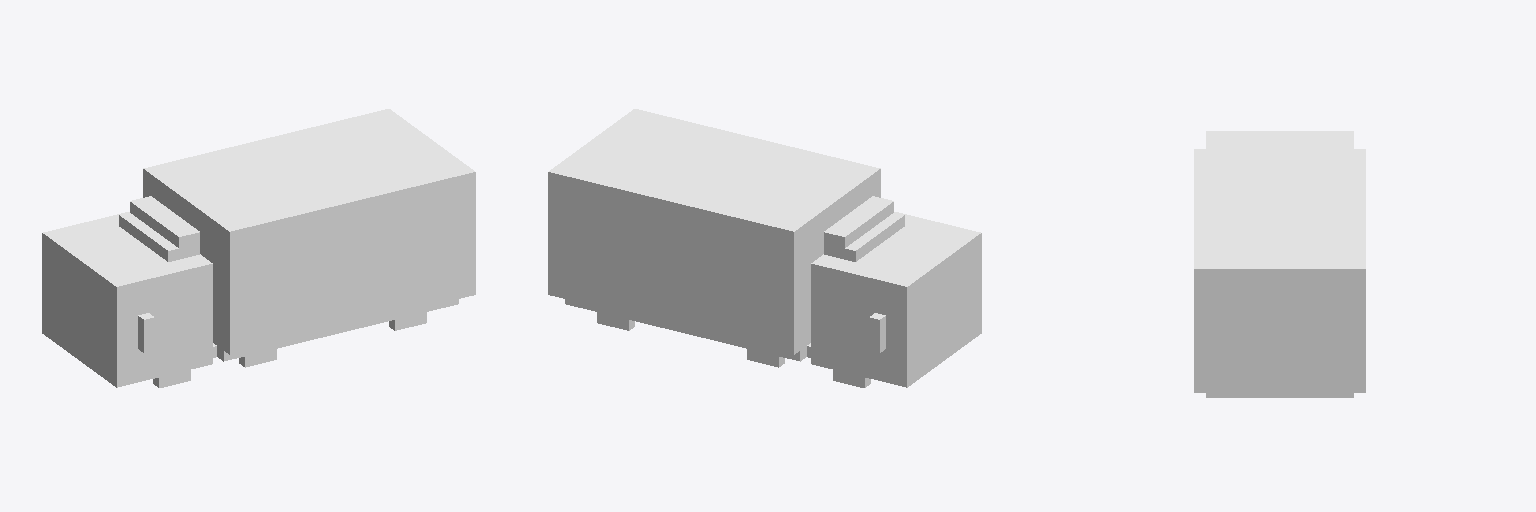
The model's file is xataiido.obj.
3 renders of one model, left to right at view 1: azimuth 30°, elevation 25°; view 2: azimuth 150°, elevation 25°; view 3: azimuth 270°, elevation 25°, orthographic.
Parts seen in each view (by area): view 1: object 1; view 2: object 1; view 3: object 1.
Part boxes in pixels (bbox=[...]): object 1: bbox=[42, 109, 475, 387]; object 1: bbox=[548, 109, 981, 387]; object 1: bbox=[1194, 131, 1365, 397].
Size of the model in its own units: 3.3 by 1.3 by 1.4.